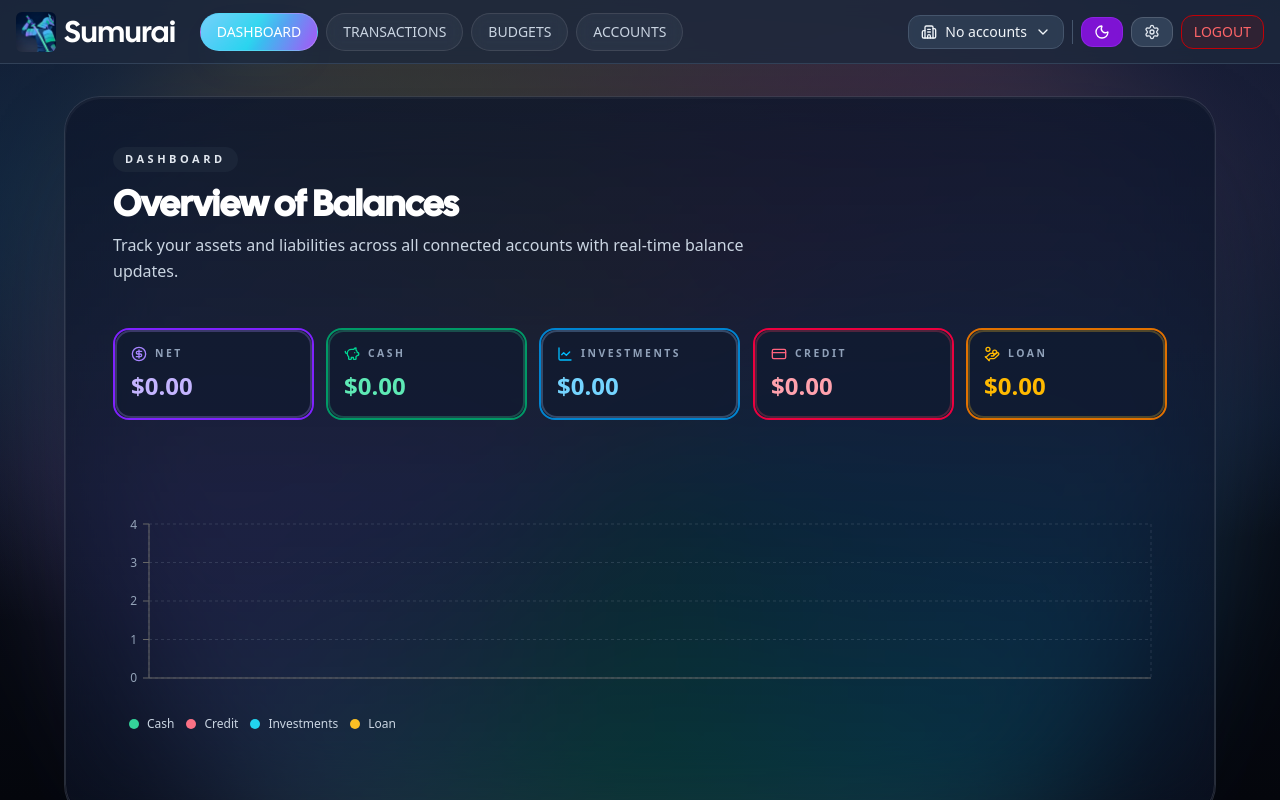
Test case: User-Friendly Error Messages and Empty States (Boundary Mocks) › Empty State Messages › shows message when budgets are not set up
Click the button "Budgets".
click(520, 32)  # box [471,13,568,51]
(page scrolled)
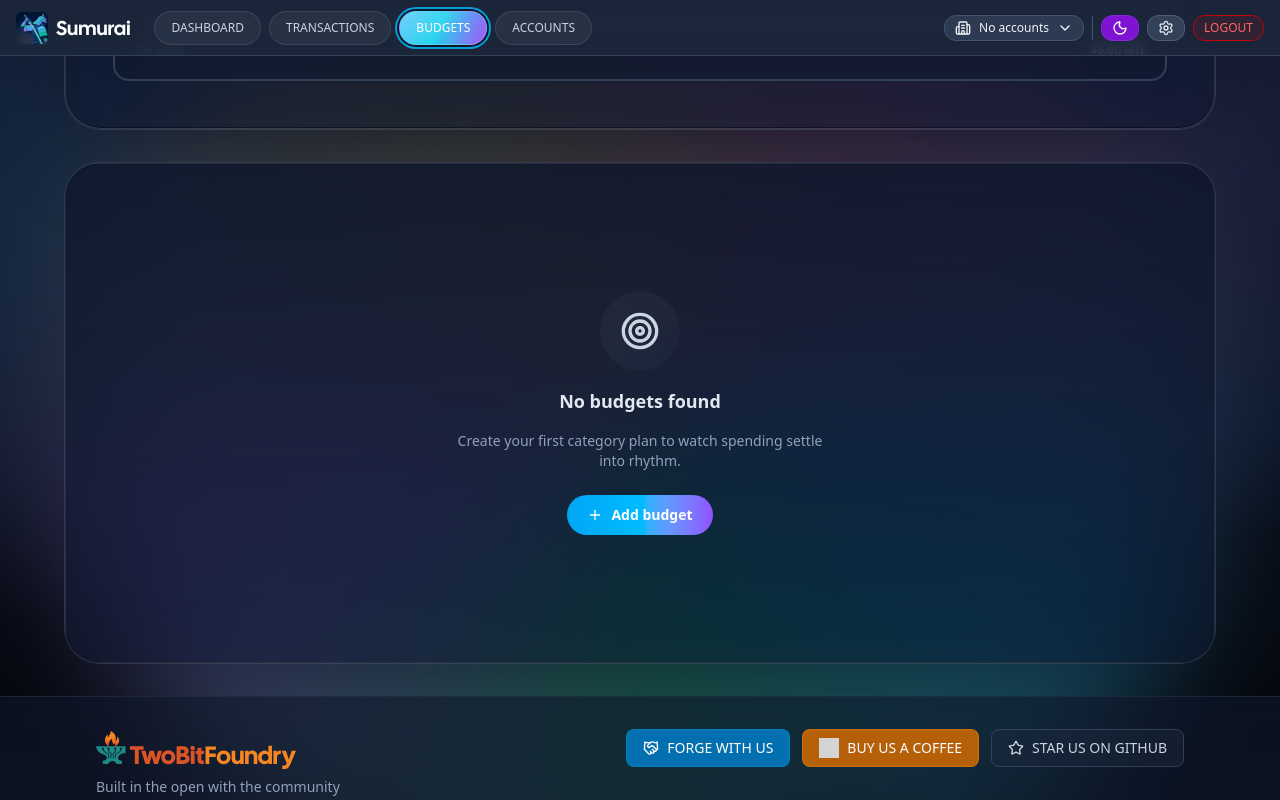
Check: the text "No budgets found" is shown, box [559,386,721,414]
